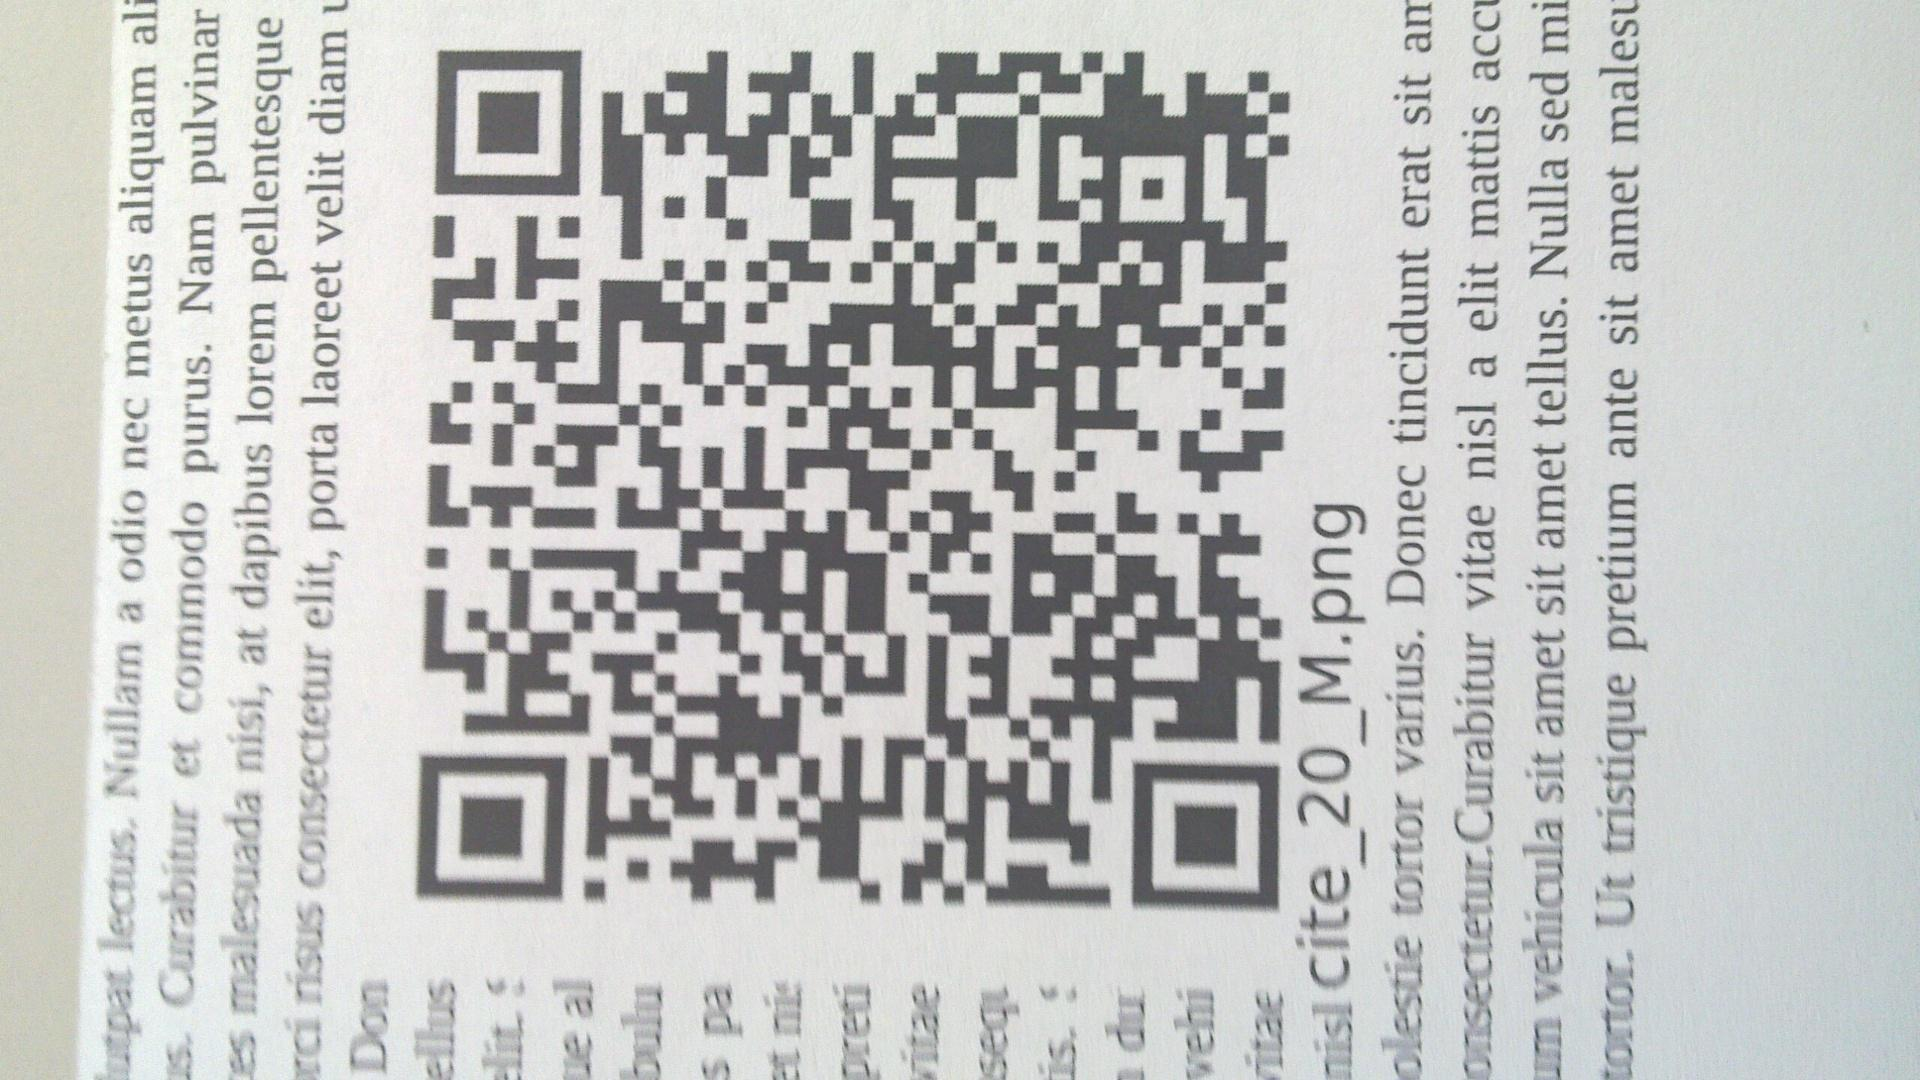qr_code: (414, 49, 1294, 913)
